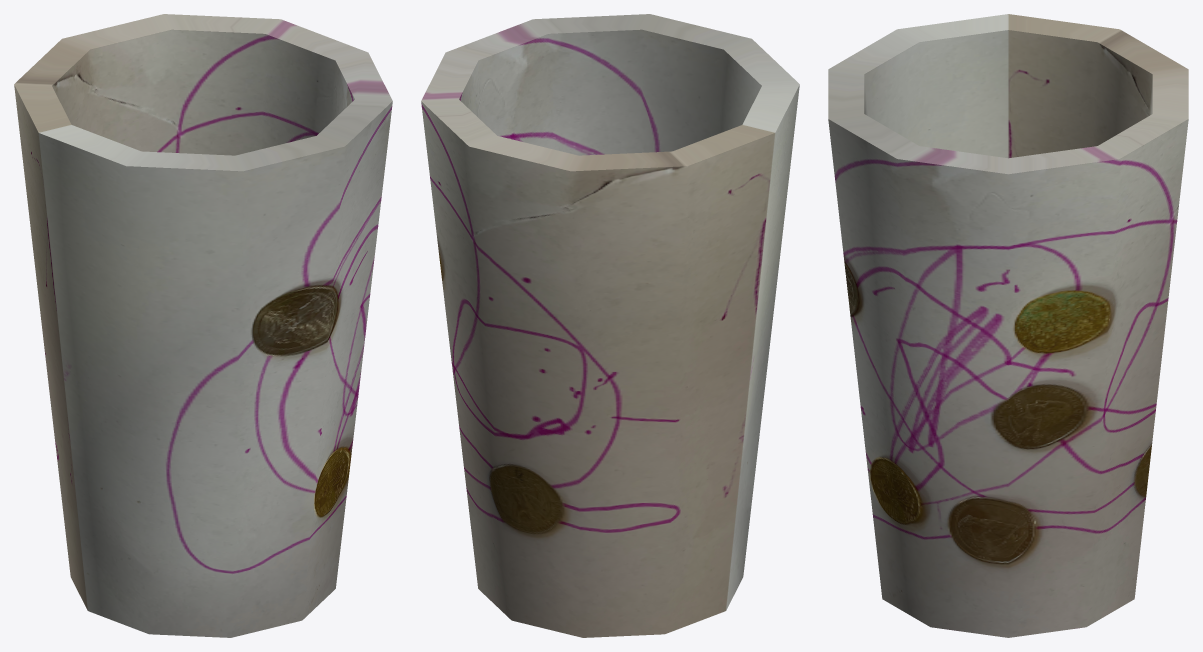
The model's file is trash.obj.
3 renders of one model, left to right at view 1: azimuth 30°, elevation 25°; view 2: azimuth 150°, elevation 25°; view 3: azimuth 270°, elevation 25°, orthographic.
Parts seen in each view (by area): view 1: Object; view 2: Object; view 3: Object.
Part boxes in pixels (box(x1,y1,x2,y2)): Object: box(14, 14, 392, 637); Object: box(421, 14, 799, 637); Object: box(828, 14, 1188, 637).
Bounding box in the file's own units: 0.7242 × 1.03 × 0.6887.
